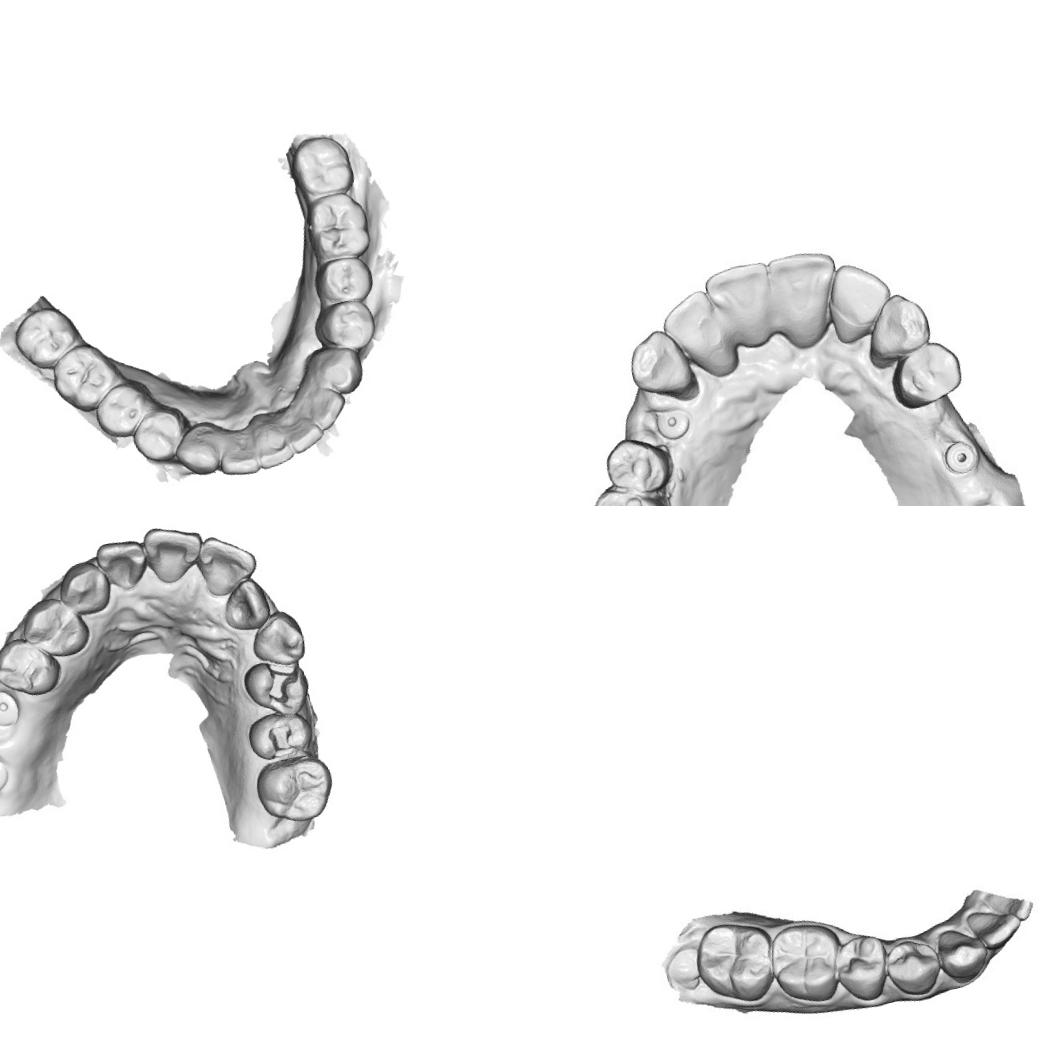canine: (854, 286, 940, 368), (622, 324, 700, 406), (244, 605, 309, 672), (932, 918, 994, 987), (52, 556, 116, 621), (166, 416, 229, 482), (304, 339, 370, 402)
implant: (652, 401, 696, 442), (942, 434, 982, 474), (0, 685, 22, 732), (0, 748, 12, 798)
incisor: (704, 257, 790, 361), (764, 246, 846, 344), (662, 286, 744, 380), (816, 256, 898, 345), (139, 516, 211, 589), (192, 527, 263, 601), (92, 534, 152, 596), (217, 576, 275, 637), (208, 419, 262, 482), (292, 376, 348, 436), (248, 408, 300, 472), (275, 395, 327, 457), (966, 901, 1024, 956)
inlay: (254, 655, 306, 710), (262, 720, 304, 764)
molar: (691, 913, 781, 1012), (764, 914, 850, 1009), (250, 748, 341, 830), (44, 334, 128, 421), (7, 298, 88, 377), (300, 188, 376, 266), (283, 127, 358, 205), (579, 475, 680, 506)
premolar: (884, 336, 970, 419), (17, 590, 95, 665), (601, 430, 675, 500), (88, 376, 159, 446), (0, 630, 65, 704), (125, 400, 194, 469), (308, 294, 381, 358), (832, 933, 894, 1005), (308, 250, 378, 312), (884, 935, 946, 1000)
